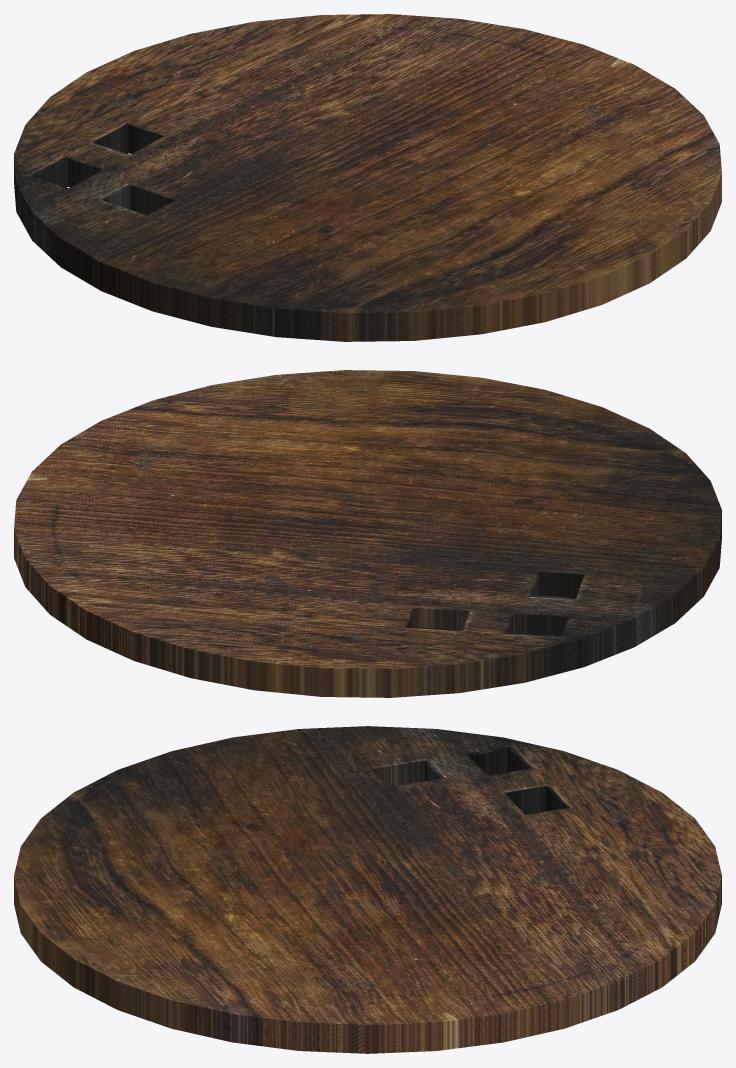
Rendered from nabeshiki.fbx.
3 views of the same model, one above another, from view 1: azimuth 30°, elevation 25°; view 2: azimuth 150°, elevation 25°; view 3: azimuth 270°, elevation 25° (orthographic).
Visible parts, largest first — view 1: nabeshiki; view 2: nabeshiki; view 3: nabeshiki.
Part boxes in pixels (x1,y1,x2,y2): nabeshiki: (14,14,721,341); nabeshiki: (14,370,721,697); nabeshiki: (14,726,721,1053).
Size of the model in its own units: 7650 by 341 by 7650.
1 material, 1 textured.
